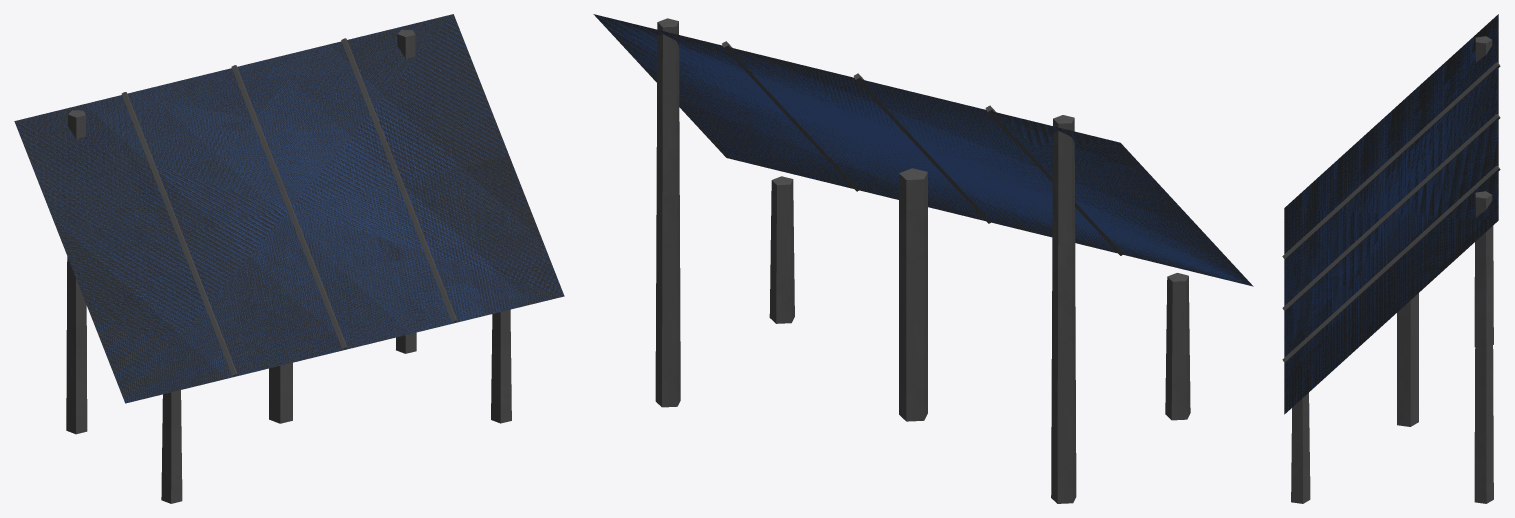
The model's file is solar_panel_low_01.glb.
3 renders of one model, left to right at view 1: azimuth 30°, elevation 25°; view 2: azimuth 150°, elevation 25°; view 3: azimuth 270°, elevation 25°, orthographic. The views are drawn at different scales.
Parts seen in each view (by area): view 1: solar_panel_low_01; view 2: solar_panel_low_01; view 3: solar_panel_low_01.
Part boxes in pixels (x1,y1,x2,y2): solar_panel_low_01: [14, 14, 564, 503]; solar_panel_low_01: [593, 14, 1253, 503]; solar_panel_low_01: [1282, 14, 1500, 503].
Size of the model in its own units: 1.6 by 1.11 by 0.7141.
3 materials, 3 textured.
